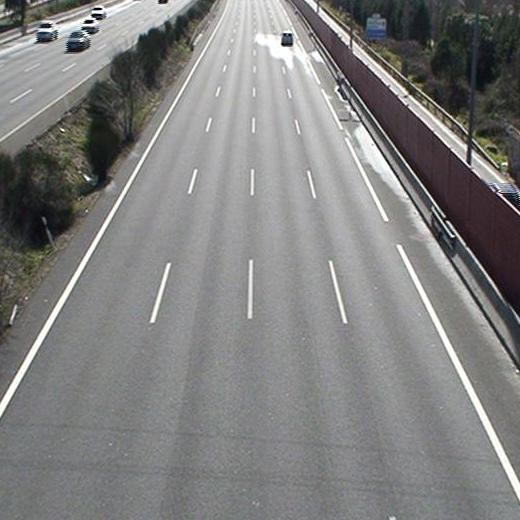car: (281, 31, 294, 45)
